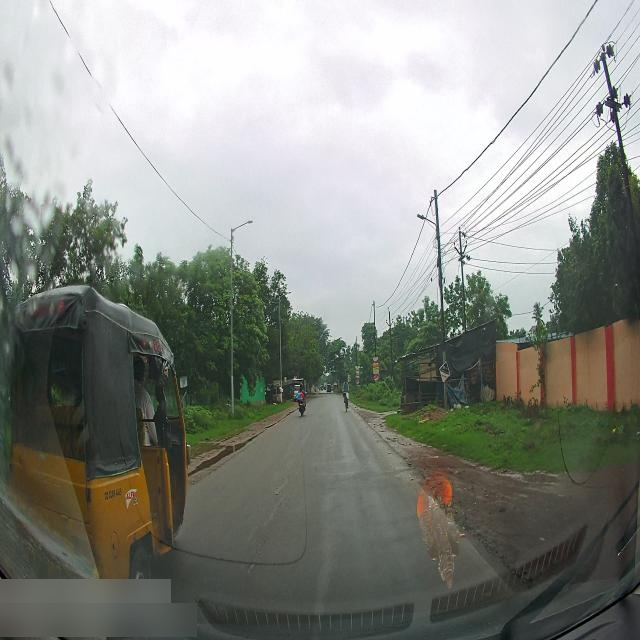pothole: (188, 439, 246, 479)
